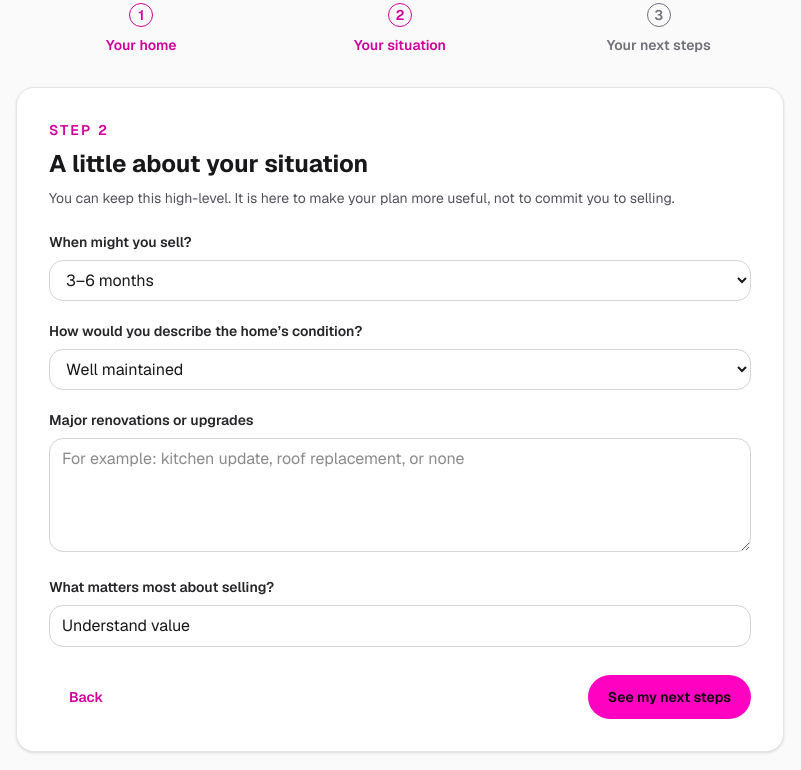
Test: refreshing restores saved property and situation fields for an anonymous journey
This screenshot has width=801, height=770.
(page scrolled)
expect the dropdown labelled "When might you sell?" shows "3–6 months": met, box [49,260,751,301]
expect the field labelled "What matters most about selling?" holds "Understand value": met, box [49,605,751,647]
Click the button "Back": (86, 697) [49,675,123,719]
(page scrolled)
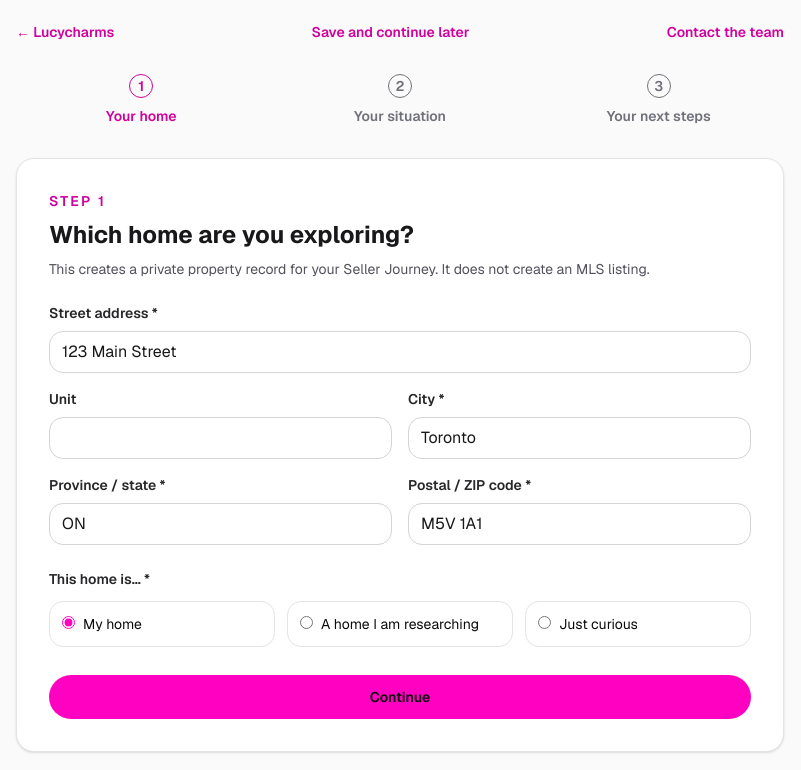
expect the field labelled "Street address *" holds "123 Main Street": met, box [49,331,751,373]
